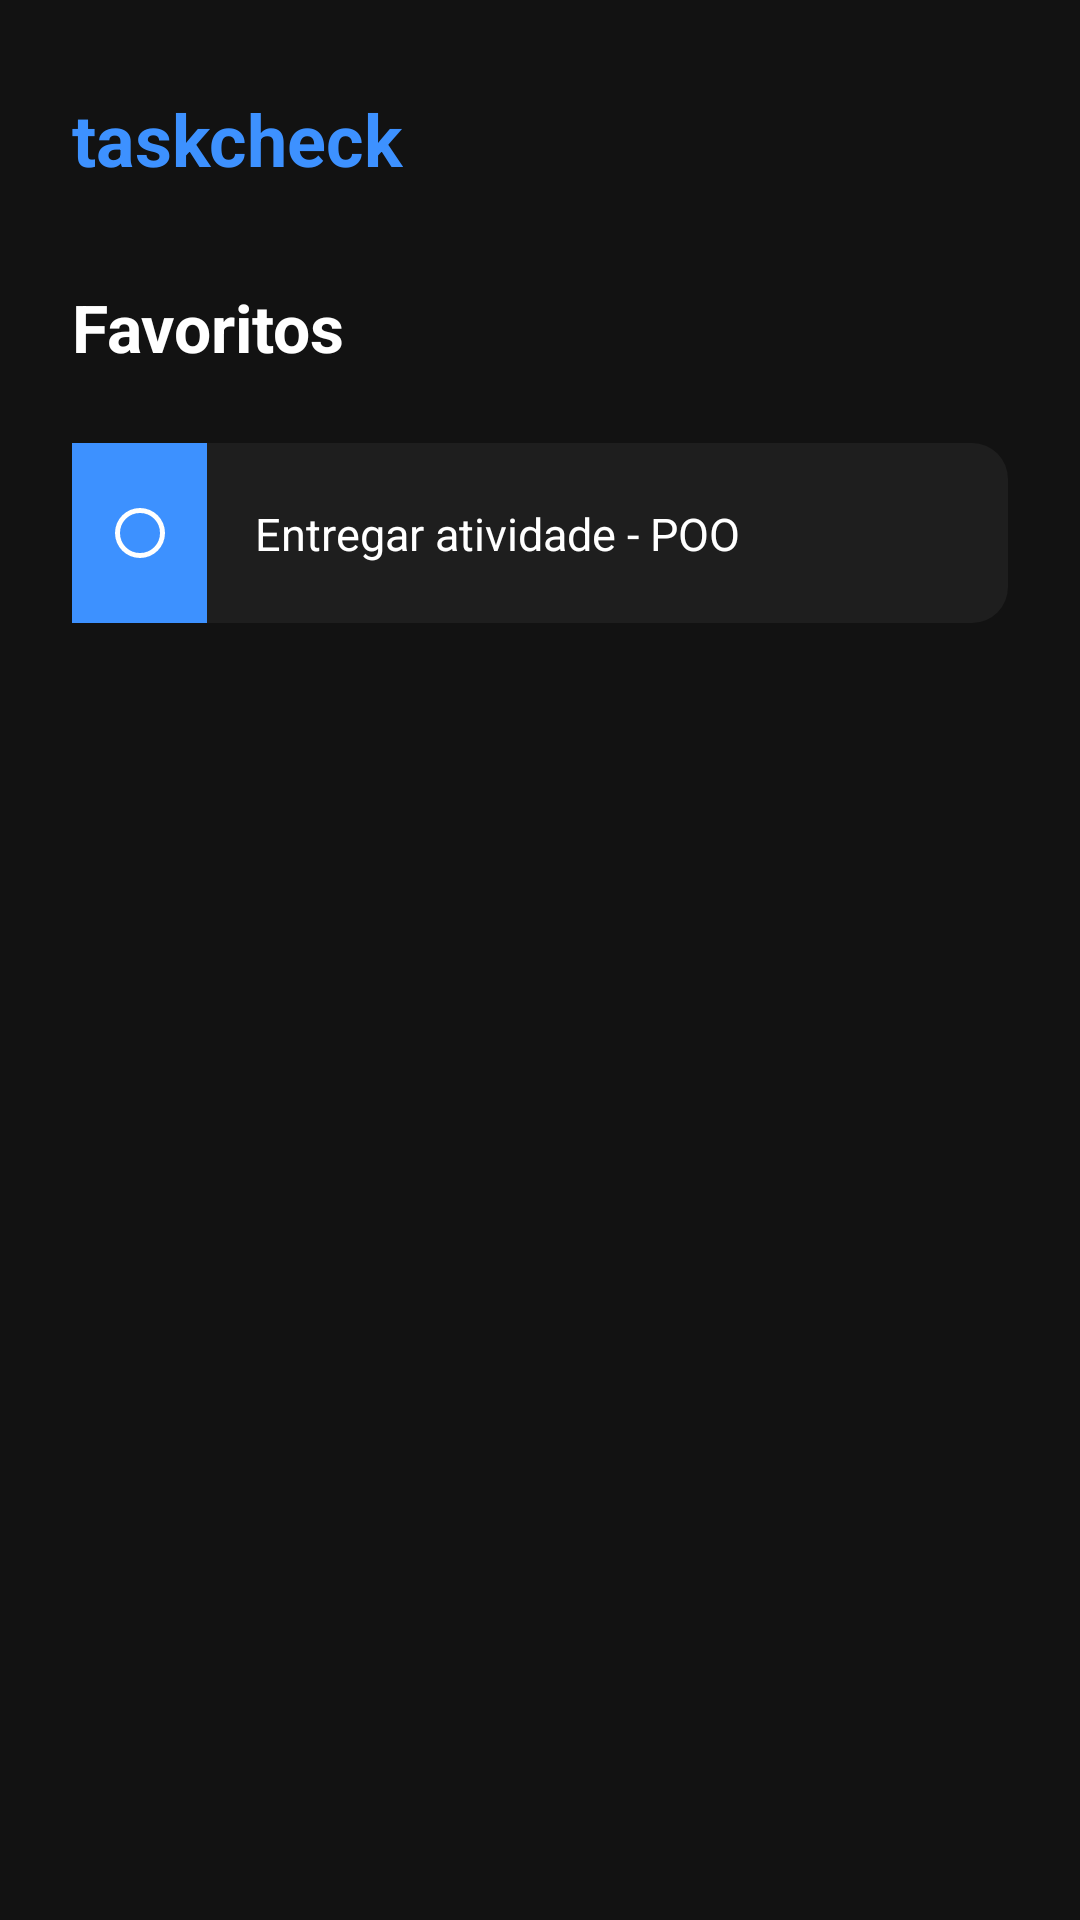

Screen size 1080 × 1920. Icon name, then its center in pixels as point (x, y):
Ícone de status da tarefa: point (140, 533)
